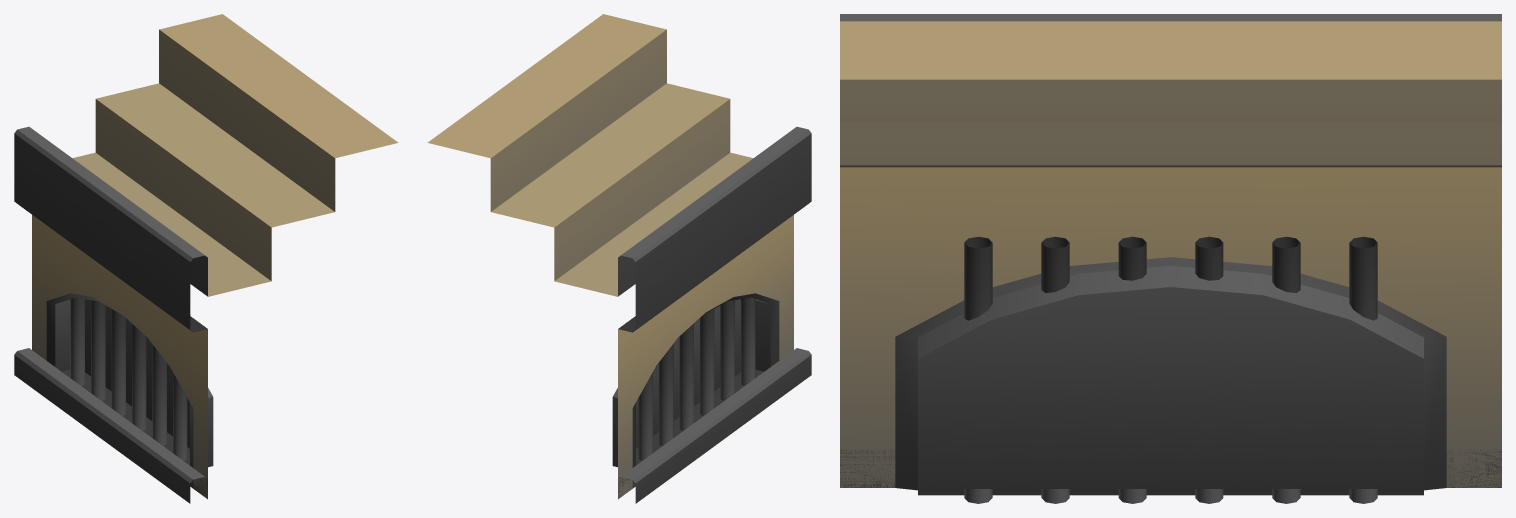
Rendered from Straight.fbx.
3 views of the same model, side by side, from view 1: azimuth 30°, elevation 25°; view 2: azimuth 150°, elevation 25°; view 3: azimuth 270°, elevation 25° (orthographic). The views are drawn at different scales.
Visible parts, largest first — view 1: Cube.010; view 2: Cube.010; view 3: Cube.010.
Part boxes in pixels (bbox=[...]): Cube.010: bbox=[14, 14, 398, 503]; Cube.010: bbox=[427, 14, 811, 503]; Cube.010: bbox=[840, 14, 1501, 503].
Size of the model in its own units: 547 by 780 by 800.
